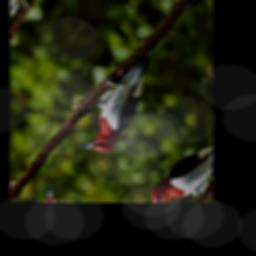Woodpecker: (61, 31, 181, 167)
